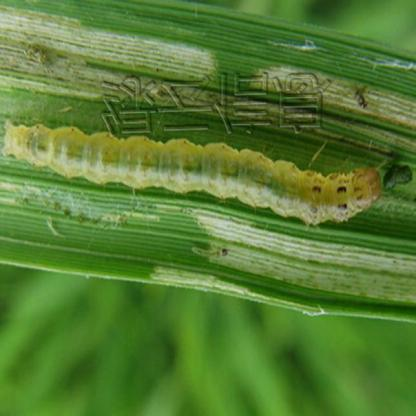leaf-folder: (5, 105, 406, 235), (186, 244, 239, 264)
